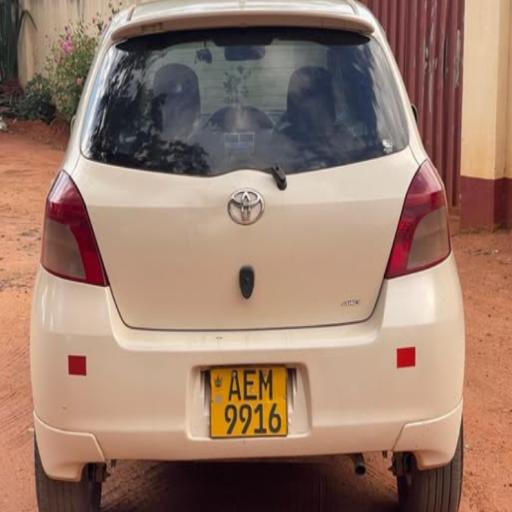number-plates: (209, 368, 284, 436)
